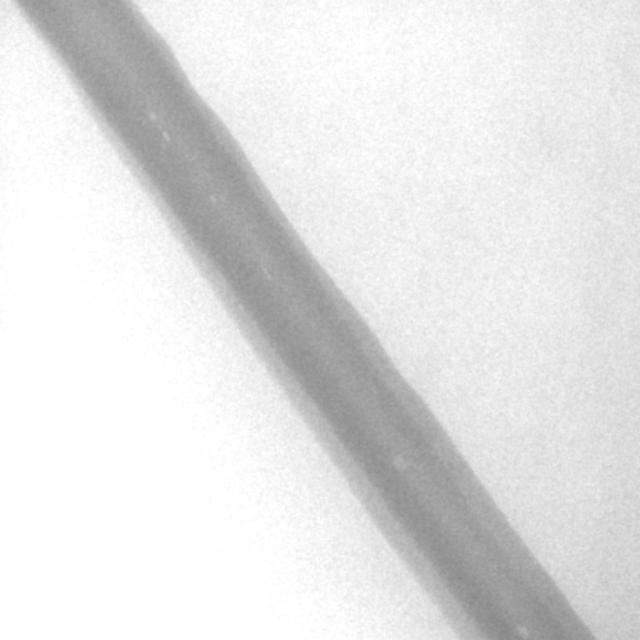air hole: (516, 624, 530, 636), (206, 190, 216, 204), (162, 129, 171, 143), (147, 110, 156, 122)
